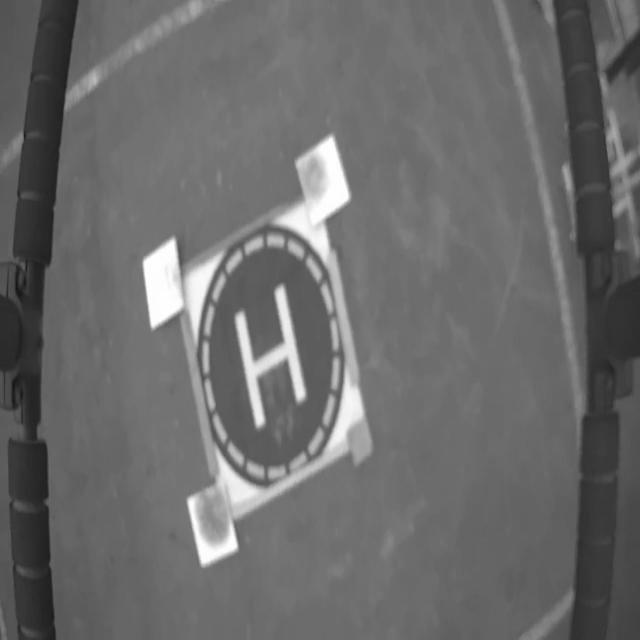Helipad: (234, 284, 307, 427)
